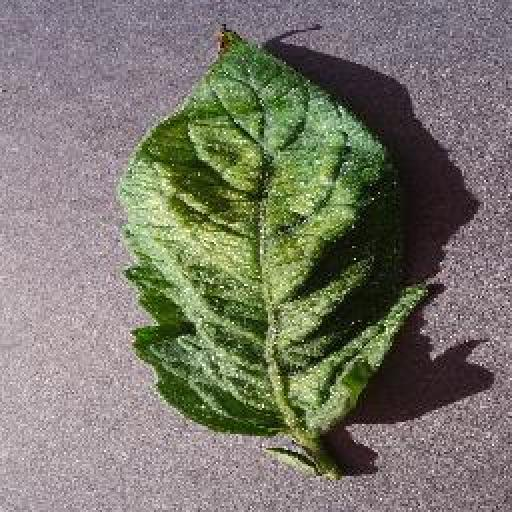disease_tomato: (116, 22, 432, 438)
